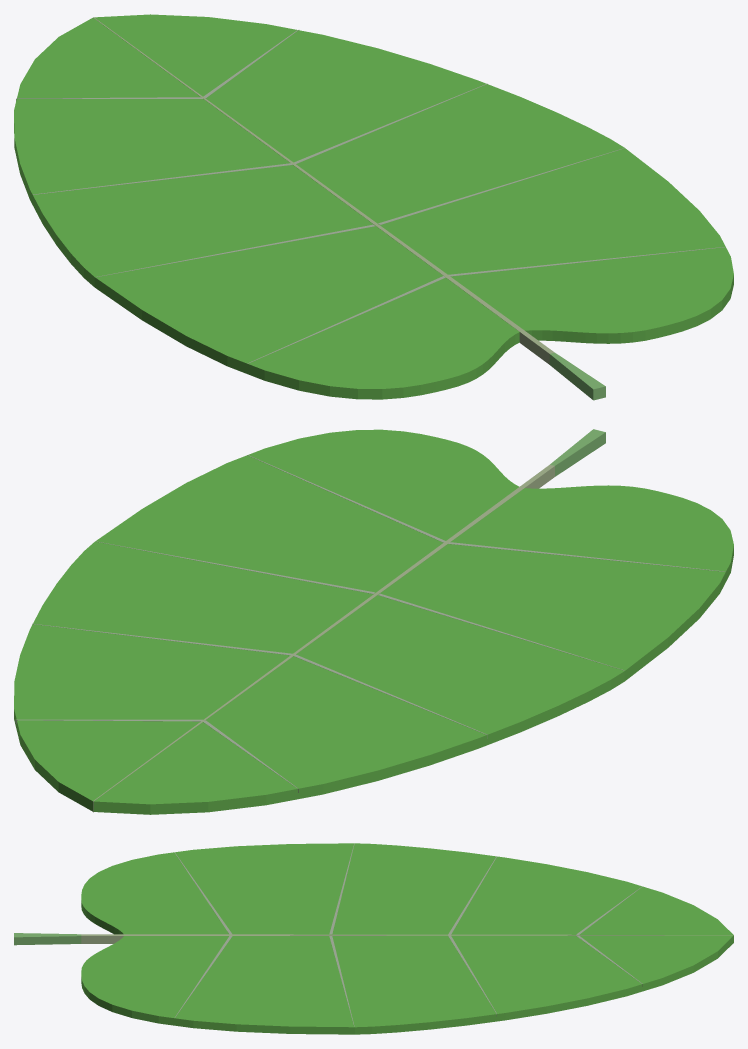
The model's file is fragileleaf1.glb.
The picture shows the model from 3 angles, top to bottom: view 1: azimuth 30°, elevation 25°; view 2: azimuth 150°, elevation 25°; view 3: azimuth 270°, elevation 25°; orthographic projection. The views are drawn at different scales.
Parts seen in each view (by area): view 1: BézierCurve, Cube; view 2: BézierCurve, Cube; view 3: BézierCurve, Cube.
Part boxes in pixels (x1,y1,x2,y2): BézierCurve: (14,14,733,399); Cube: (93,17,605,400); BézierCurve: (14,429,733,814); Cube: (93,429,605,812); BézierCurve: (81,843,733,1034); Cube: (14,933,733,945).
Bounding box in the file's own units: 2 × 0.04 × 3.31.
